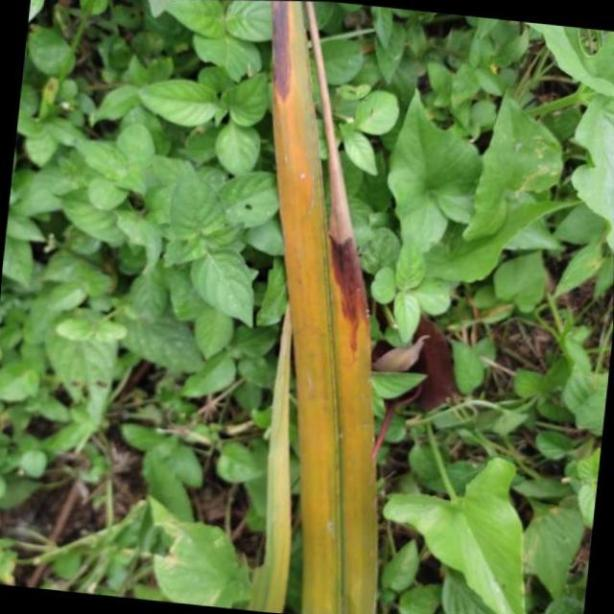Megnesium: (267, 0, 381, 608)
